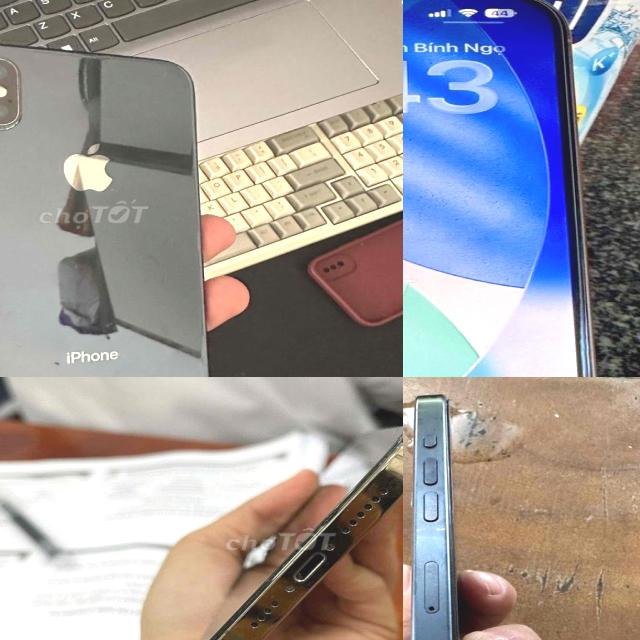gen_12_13: (187, 424, 403, 640)
gen_15: (403, 383, 474, 640)
gen_16: (403, 0, 593, 377)
gen_x_xs: (0, 37, 224, 377)
